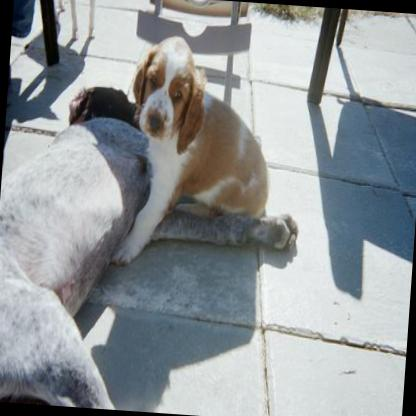Welsh_springer_spaniel: (109, 32, 278, 276)
